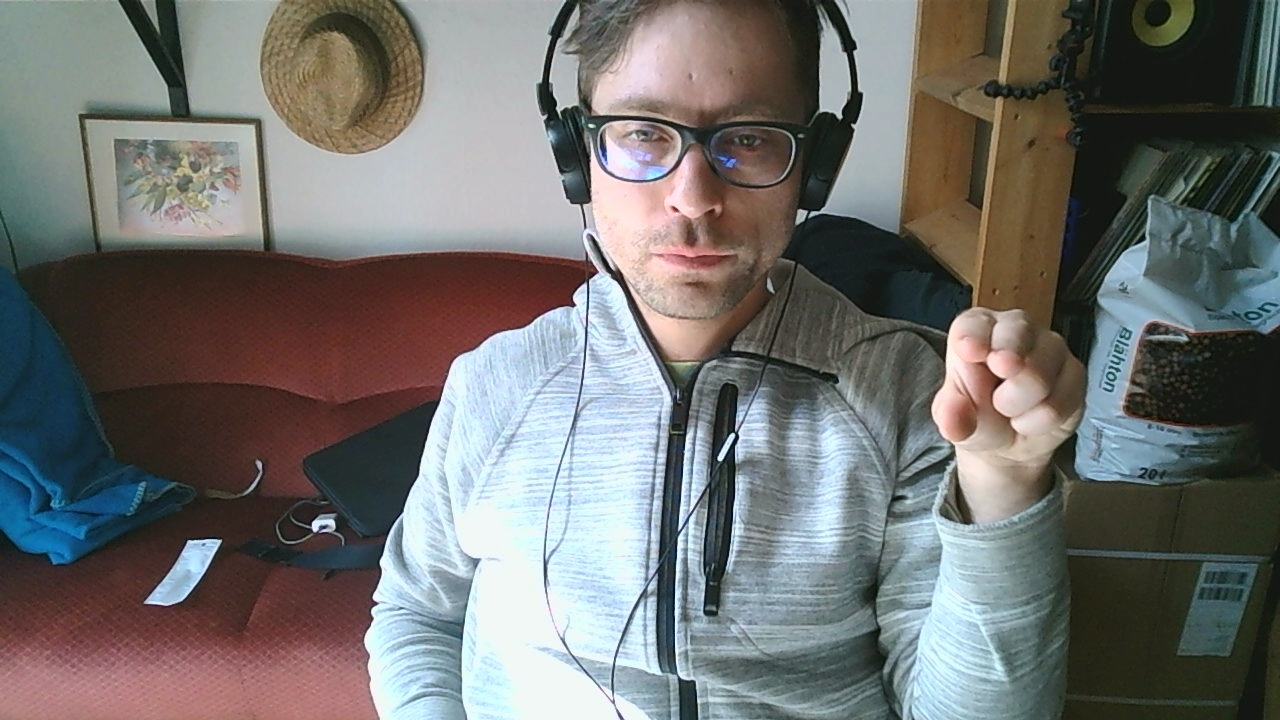no: (929, 307, 1093, 475)
